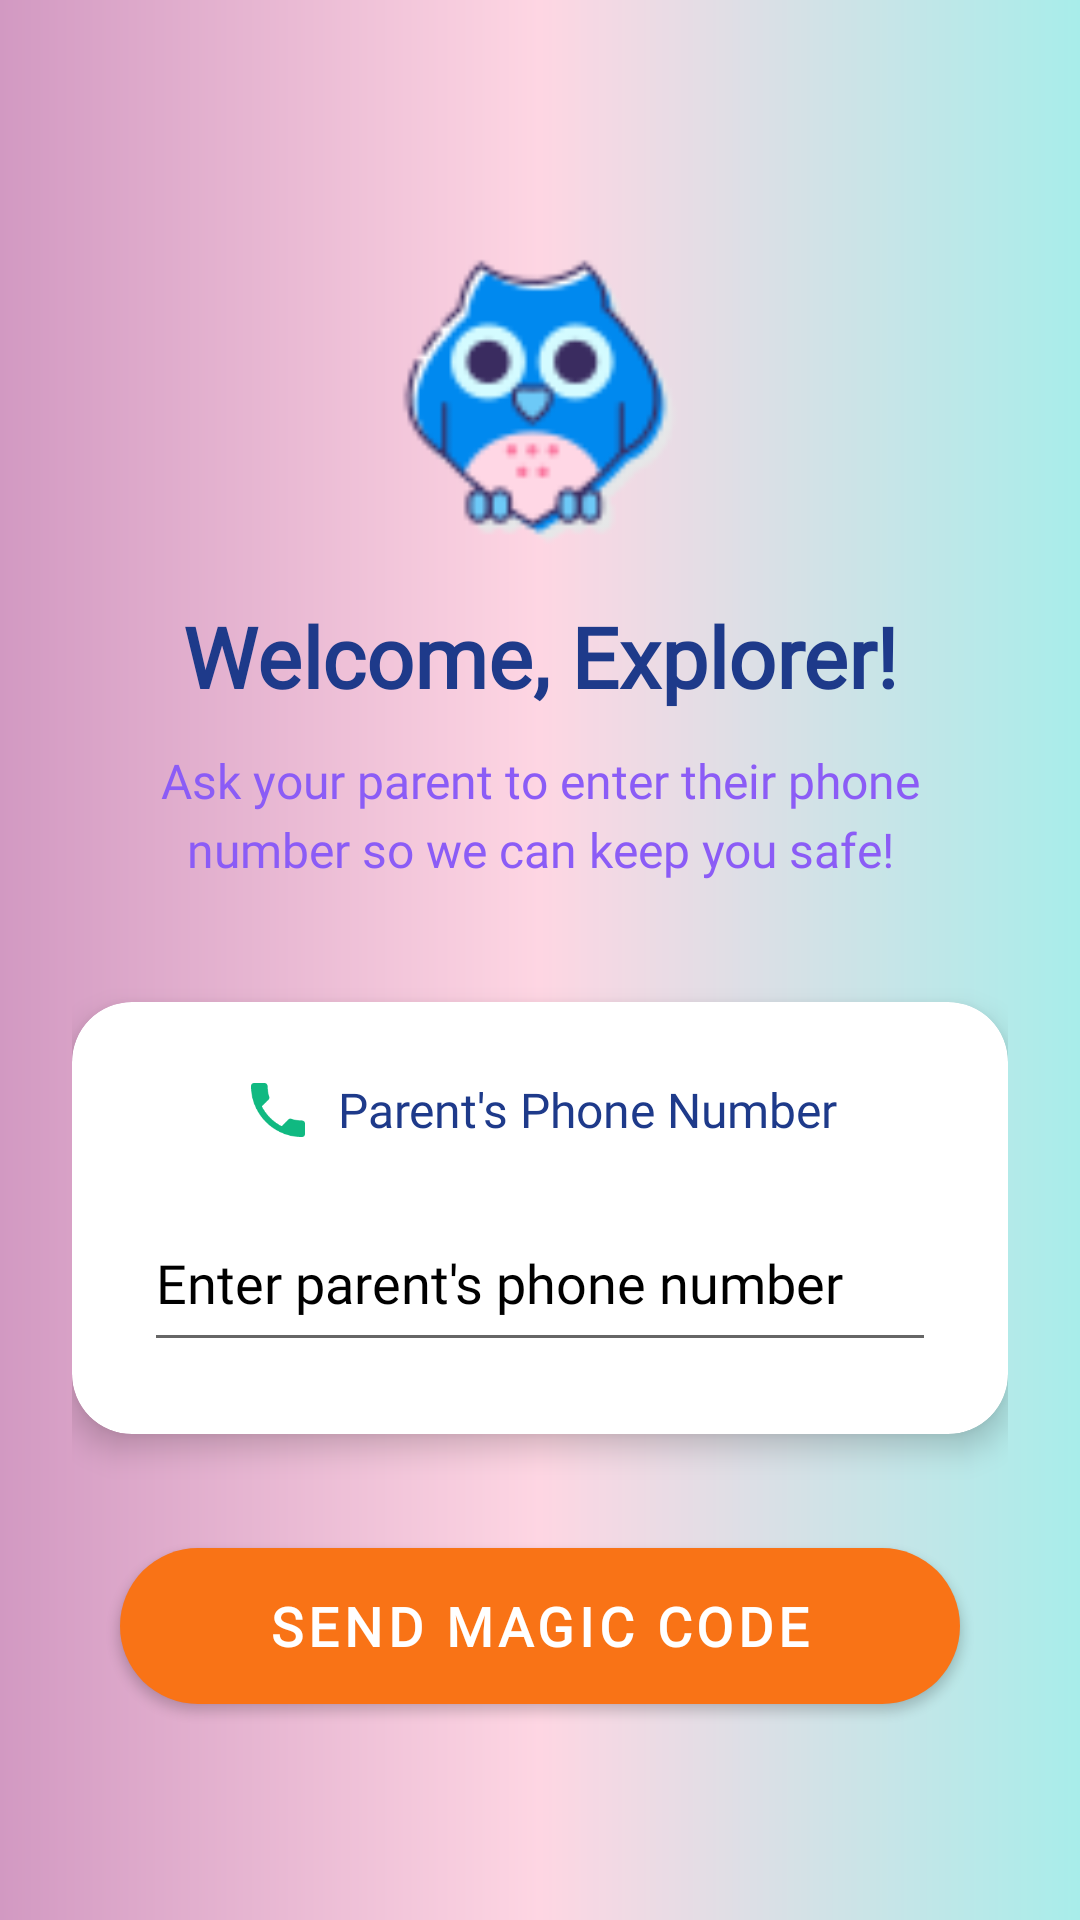

Point at icon controls on the screen. Image size 1080px x 1920px, points as [x,y].
Friendly owl mascot waving: [540,400]
